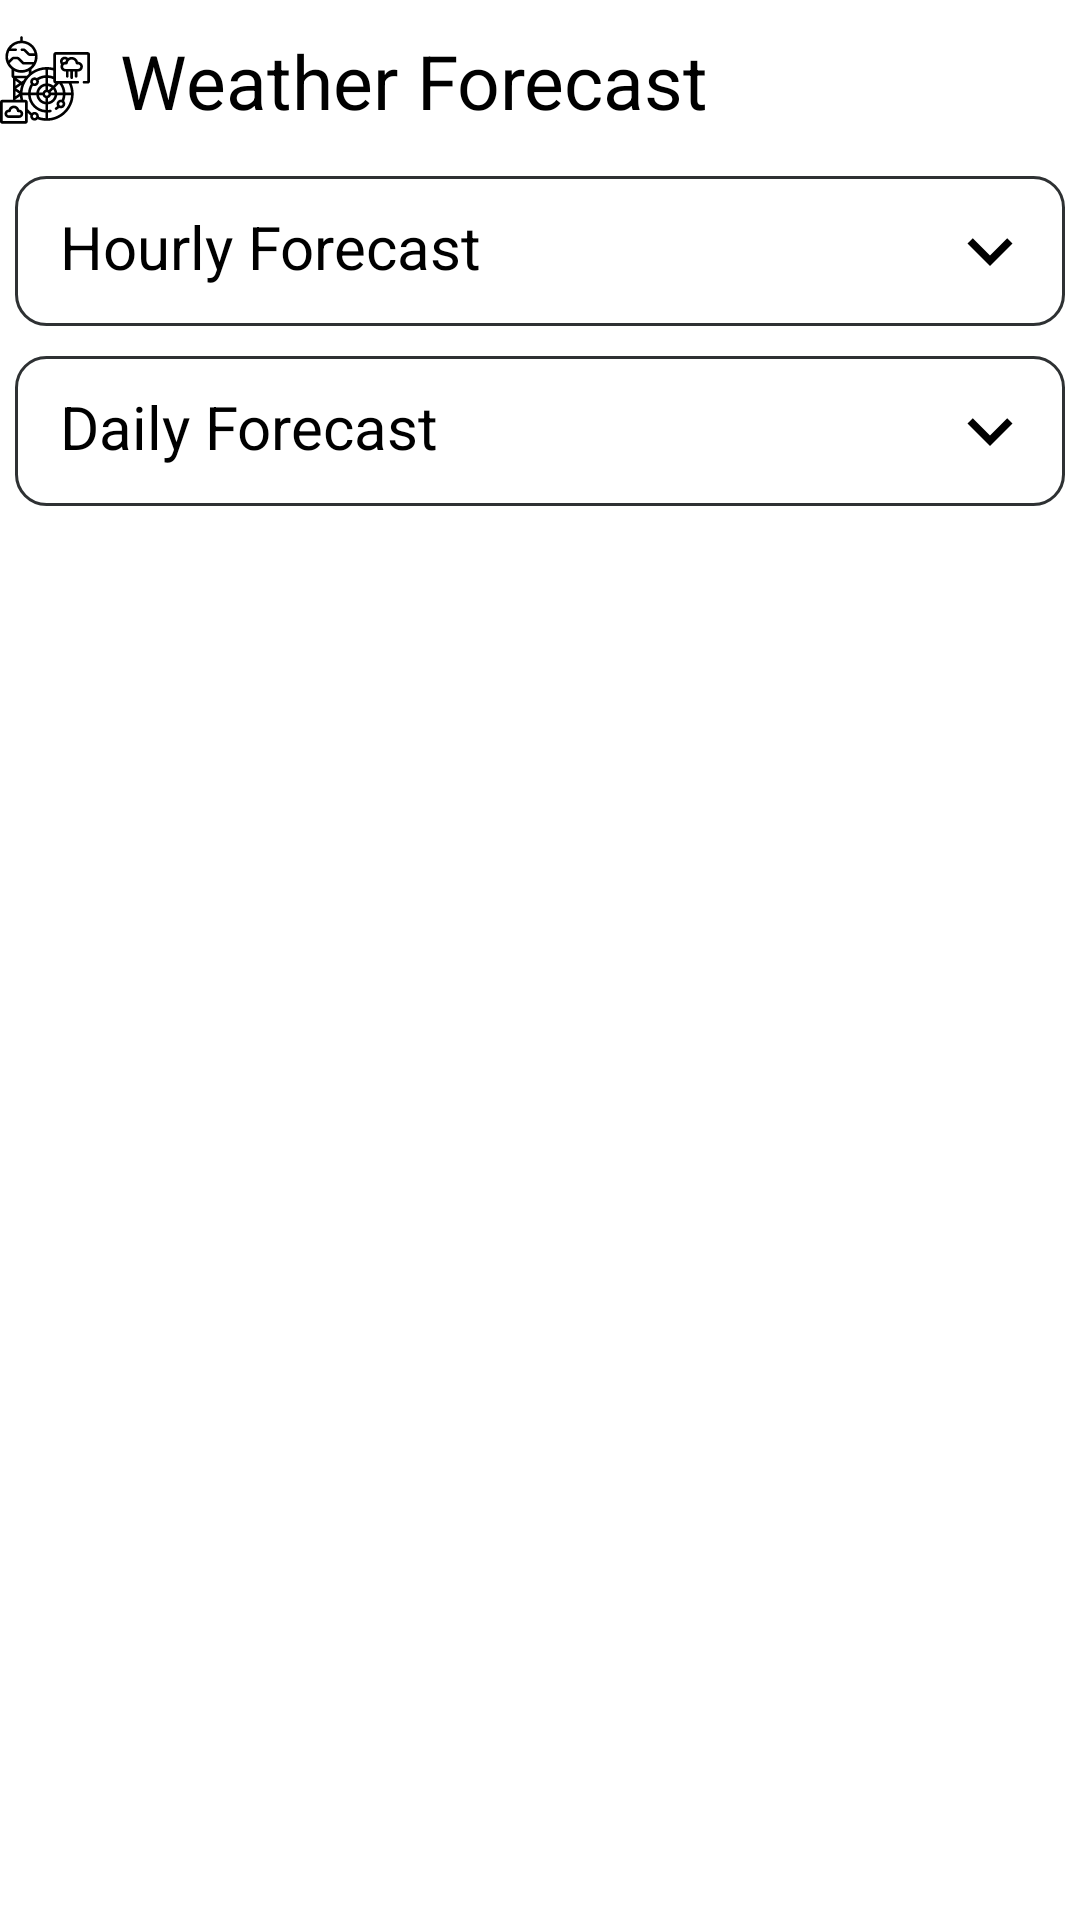

Screen size 1080*1920. Icon name, then its center in pixels as [x,y]:
climate: [45,80]
expend menu: [990,252], [990,432]
